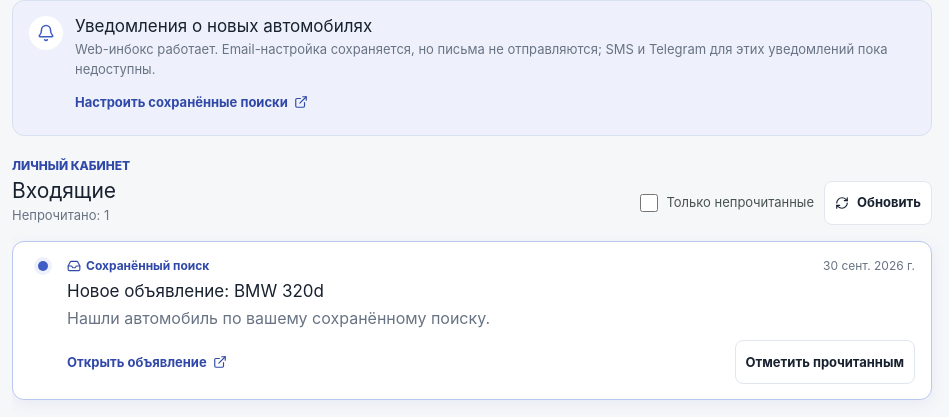
Scenario: NotificationsInbox › renders unread messages and marks them read through the API
Click the button "Отметить прочитанным": (825, 362) [735,340,915,384]
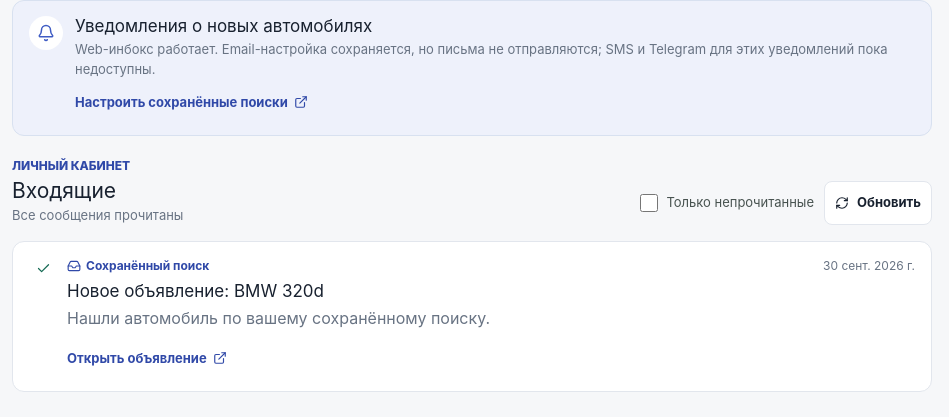
Expected: the text "Все сообщения прочитаны" is shown, [12,206,183,225]
Expected: the text "Отметить прочитанным" is gone
